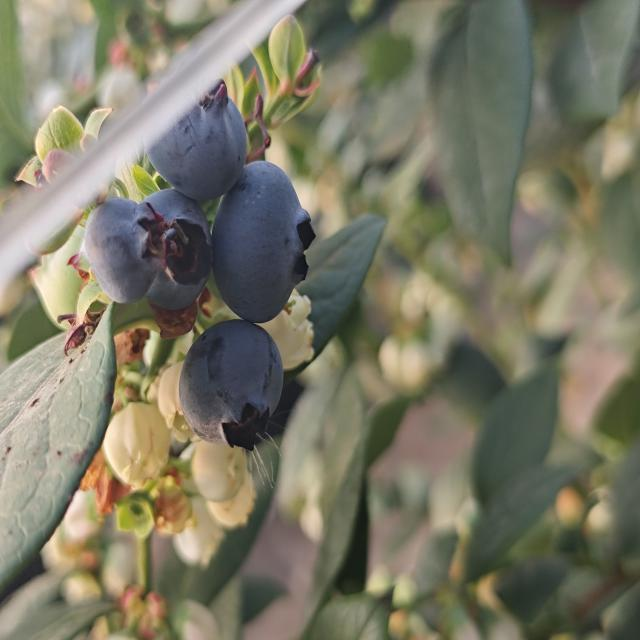ripe: (210, 159, 317, 325), (177, 318, 286, 453), (142, 77, 250, 204), (70, 195, 166, 307), (138, 184, 214, 314)
